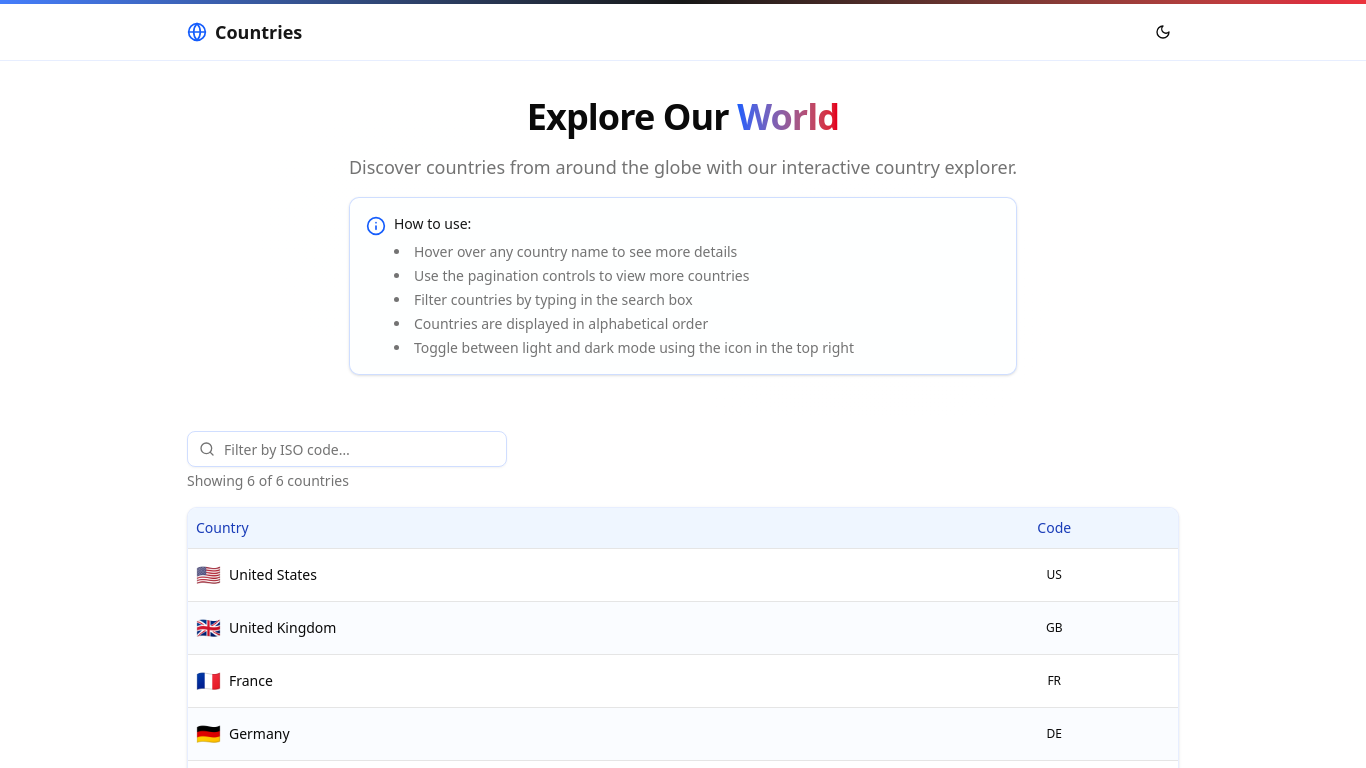
Scenario: Country Filtering › handles empty state when no matches are found
Expected: the text "United States" is shown, [229,564,317,584]
Note: Apply a filter with no matches
Type "XYZ" into the field with placeholder "Filter by ISO code…".
click(347, 449); type("XYZ")  # box [187,431,507,467]
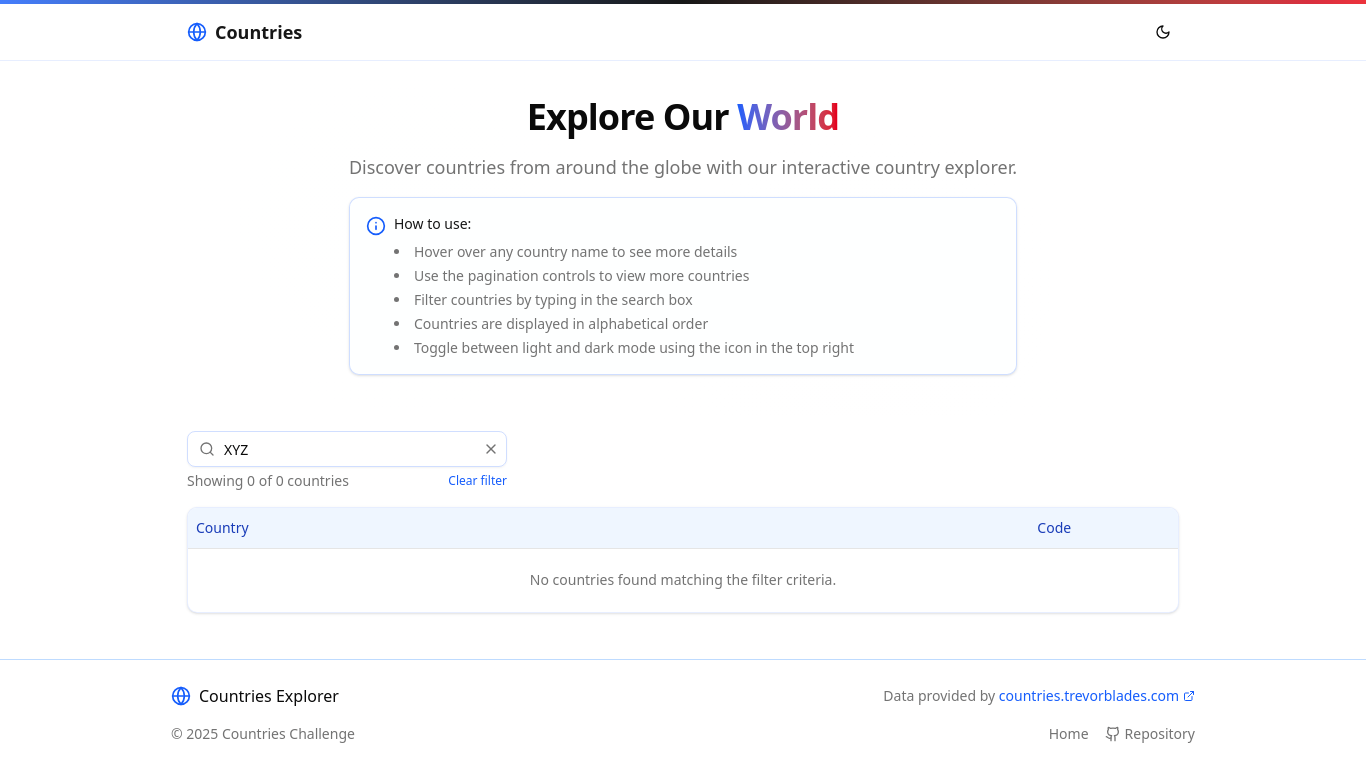
Now the text "No countries found matching the filter criteria." is shown, box [188,548,1178,612]
